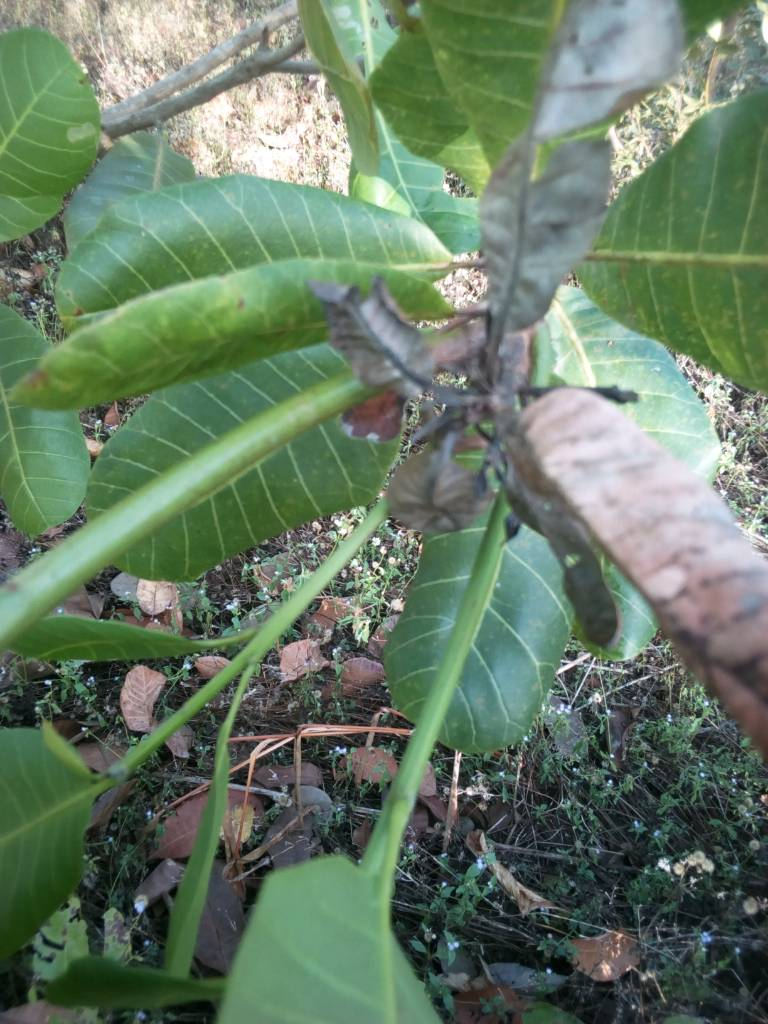Dessèchement des bourgeons: (384, 285, 553, 449)
